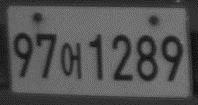1: (87, 33, 104, 81)
2: (110, 33, 134, 82)
7: (35, 32, 57, 79)
8: (137, 35, 158, 83)
9: (161, 35, 184, 82), (11, 33, 33, 78)
어: (60, 41, 83, 80)
